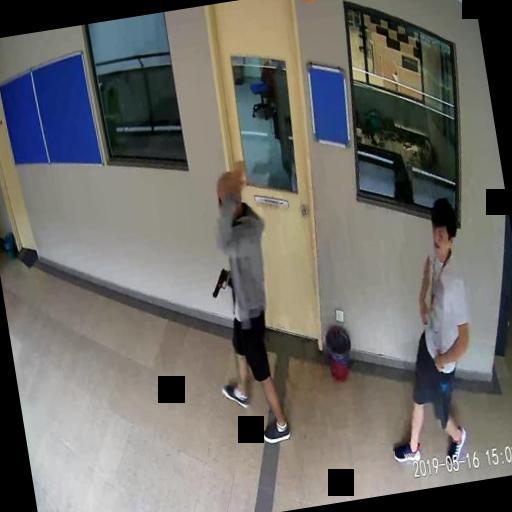Handgun: (206, 264, 232, 298)
